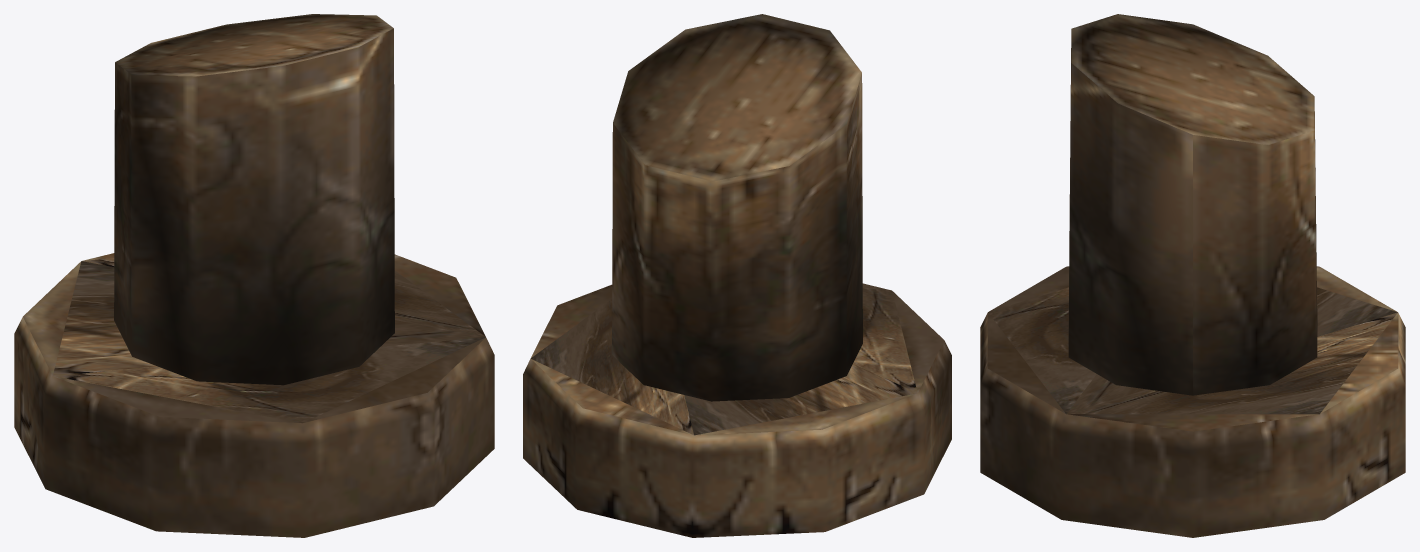
The picture shows the model from 3 angles, left to right: view 1: azimuth 30°, elevation 25°; view 2: azimuth 150°, elevation 25°; view 3: azimuth 270°, elevation 25°; orthographic projection. The views are drawn at different scales.
Visible parts, largest first — view 1: wj07; view 2: wj07; view 3: wj07.
Boxes of the visible parts, x1,y1,x2,y2 form: wj07: [14, 14, 494, 537]; wj07: [523, 14, 951, 537]; wj07: [980, 14, 1405, 537].
Bounding box in the file's own units: 169 × 166 × 161.
